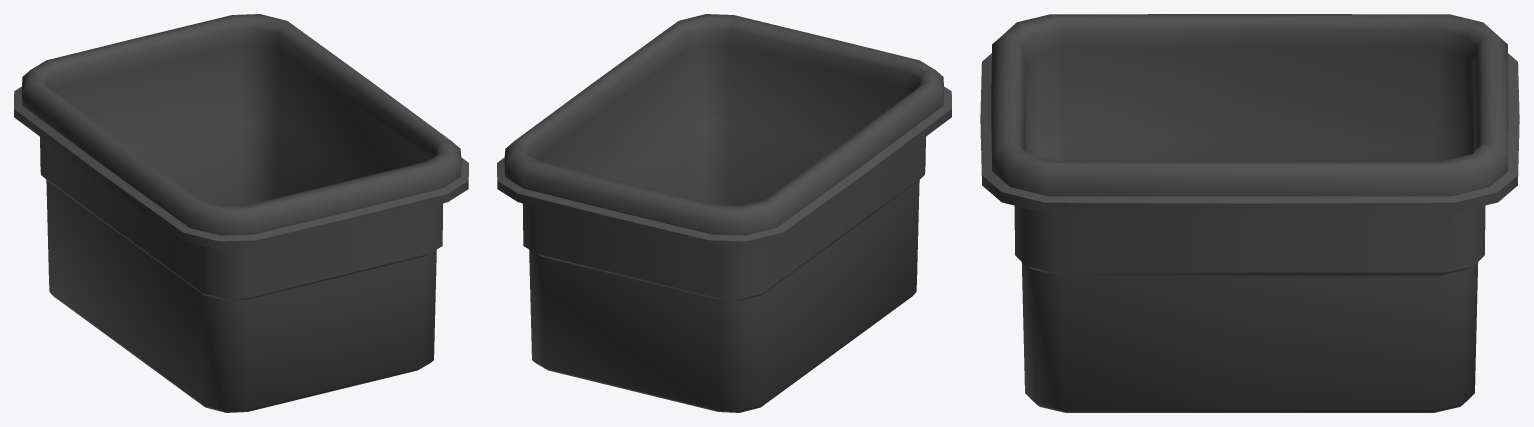
Rendered from RecyclingBin_01.fbx.
3 renders of one model, left to right at view 1: azimuth 30°, elevation 25°; view 2: azimuth 150°, elevation 25°; view 3: azimuth 270°, elevation 25°, orthographic. The views are drawn at different scales.
Parts seen in each view (by area): view 1: RecyclingBin_01; view 2: RecyclingBin_01; view 3: RecyclingBin_01.
Part boxes in pixels (box(x1,y1,x2,y2)): RecyclingBin_01: box(14, 14, 468, 412); RecyclingBin_01: box(497, 14, 951, 412); RecyclingBin_01: box(980, 14, 1519, 412).
Bounding box in the file's own units: 2.44 × 1.72 × 3.27.
